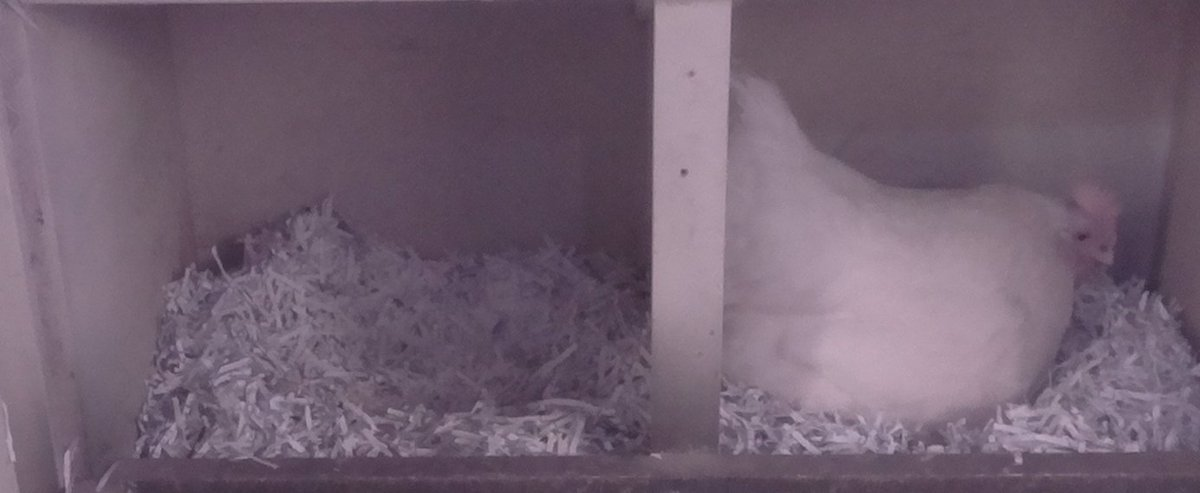hen: (730, 80, 1130, 437)
